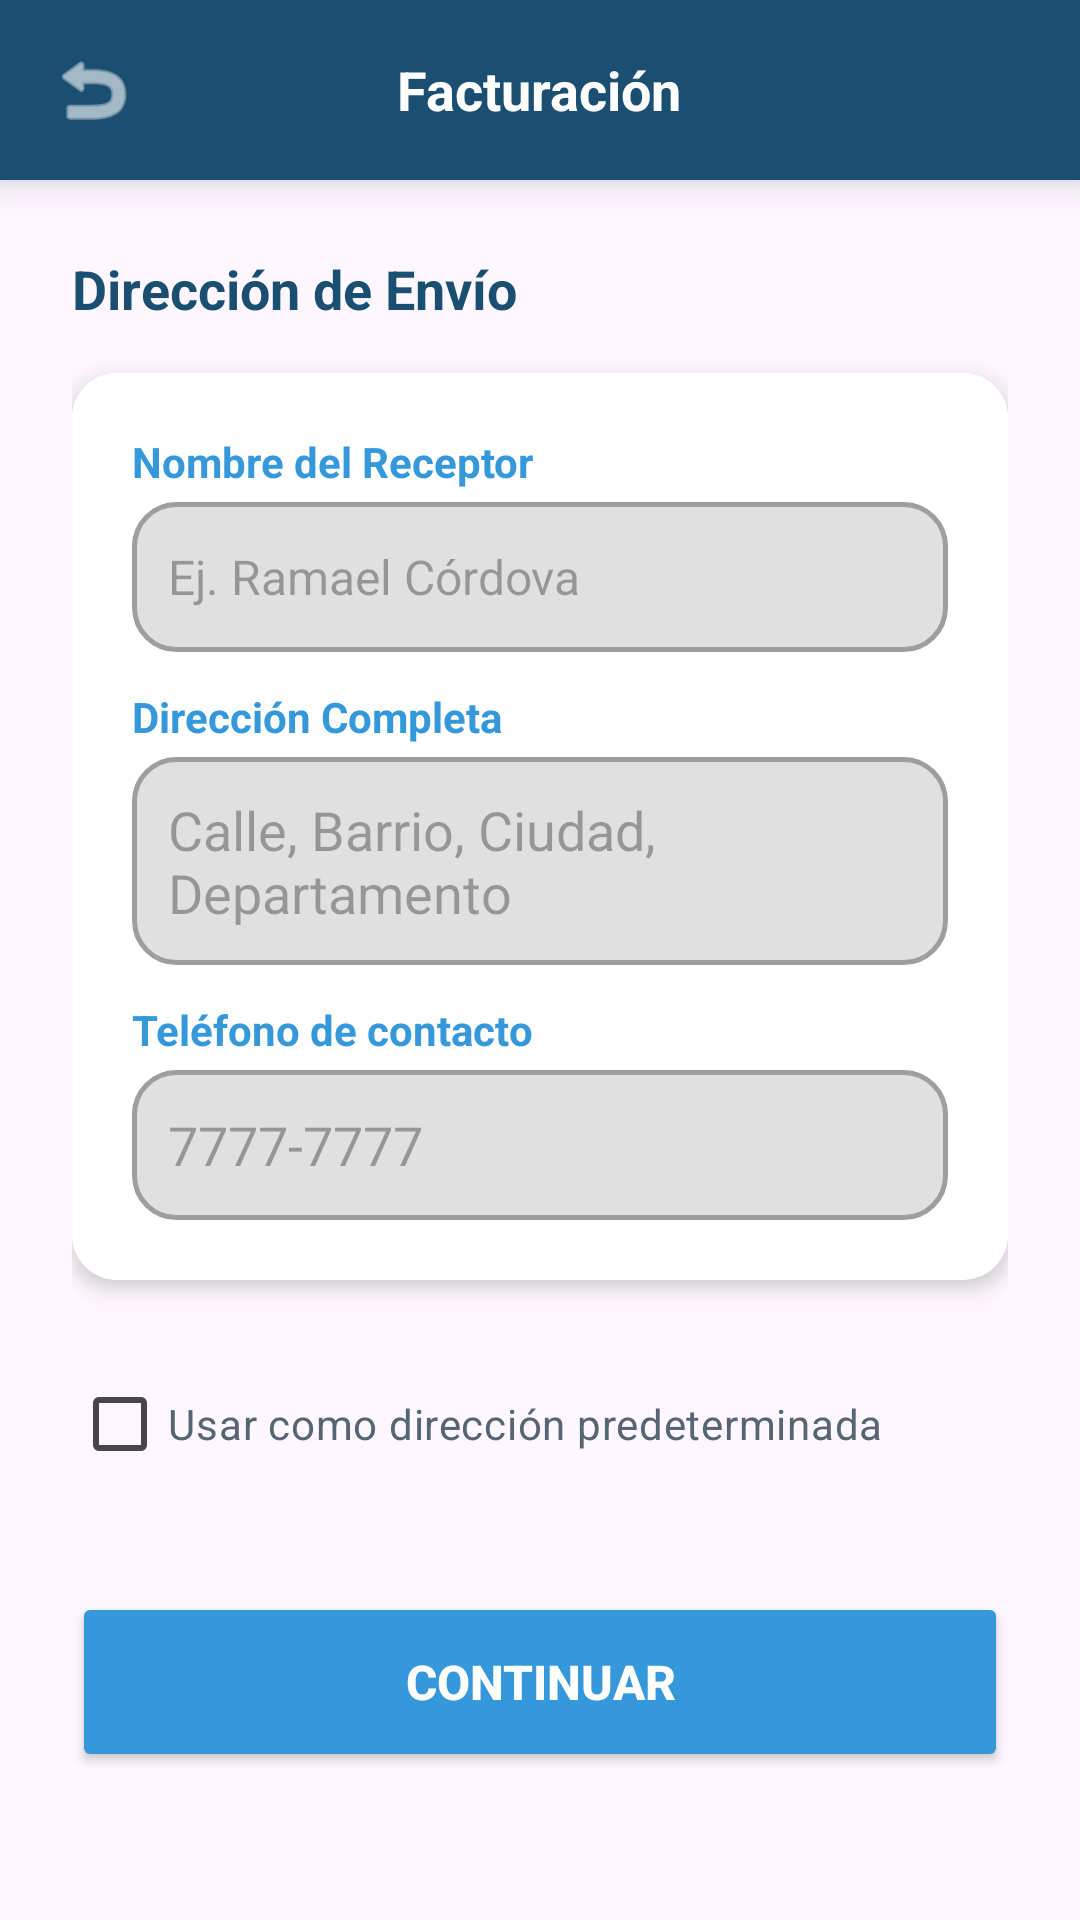

Icon bounding boxes for this 1080*1920 phone screenshot, format [x1, y1, x2, y2]:
Atrás: [62, 61, 127, 120]
